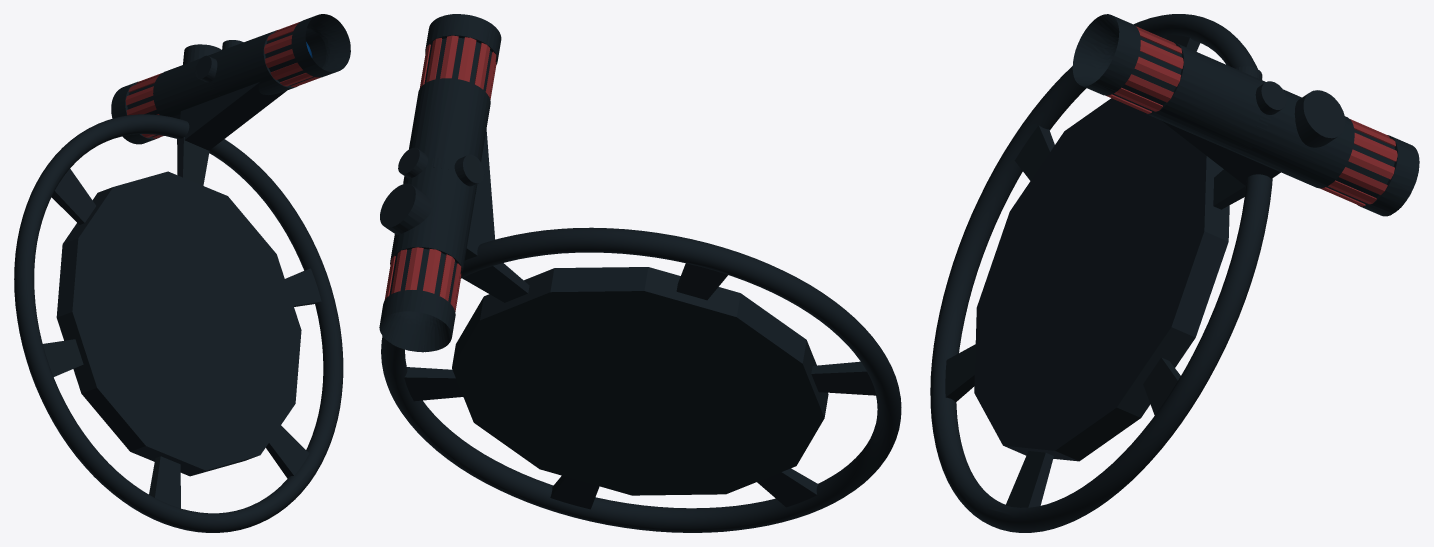
File: telescope_6_scope.fbx
3 renders of one model, left to right at view 1: azimuth 30°, elevation 25°; view 2: azimuth 150°, elevation 25°; view 3: azimuth 270°, elevation 25°, orthographic. The views are drawn at different scales.
Parts seen in each view (by area): view 1: 6_scope; view 2: 6_scope; view 3: 6_scope.
Part boxes in pixels (box(x1,y1,x2,y2)): 6_scope: box(14, 14, 350, 532); 6_scope: box(379, 14, 901, 532); 6_scope: box(930, 14, 1419, 532).
Size of the model in its own units: 84.11 by 98.53 by 78.05.
